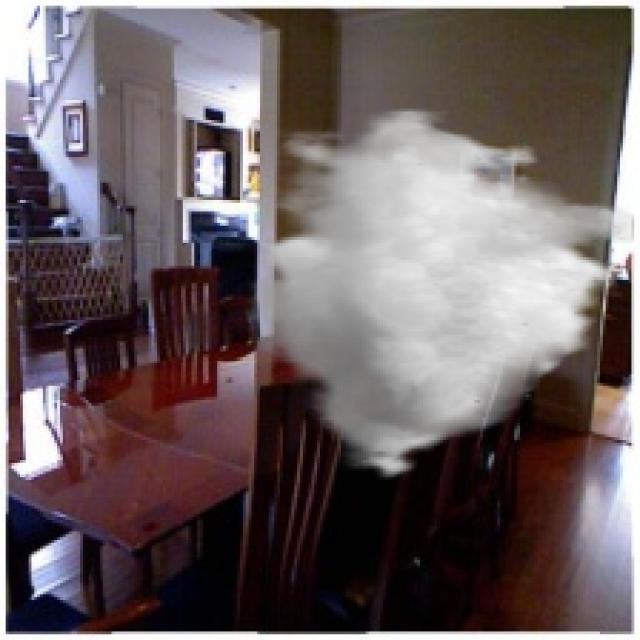Smoke: (246, 108, 634, 486)
